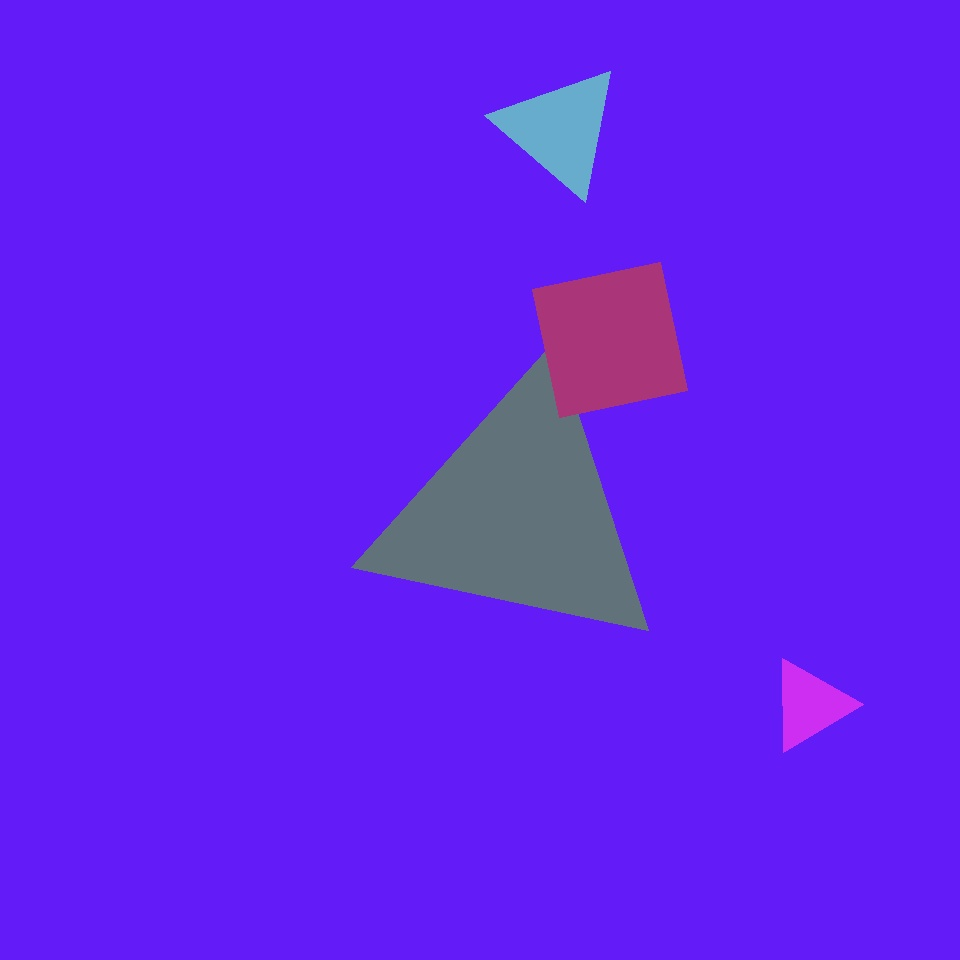circle: (370, 369, 666, 658), (652, 538, 907, 787), (709, 639, 884, 804), (497, 64, 623, 195), (770, 658, 850, 752)
square: (532, 262, 687, 418)
triangle: (438, 321, 660, 543), (280, 693, 488, 900), (565, 508, 732, 675)
